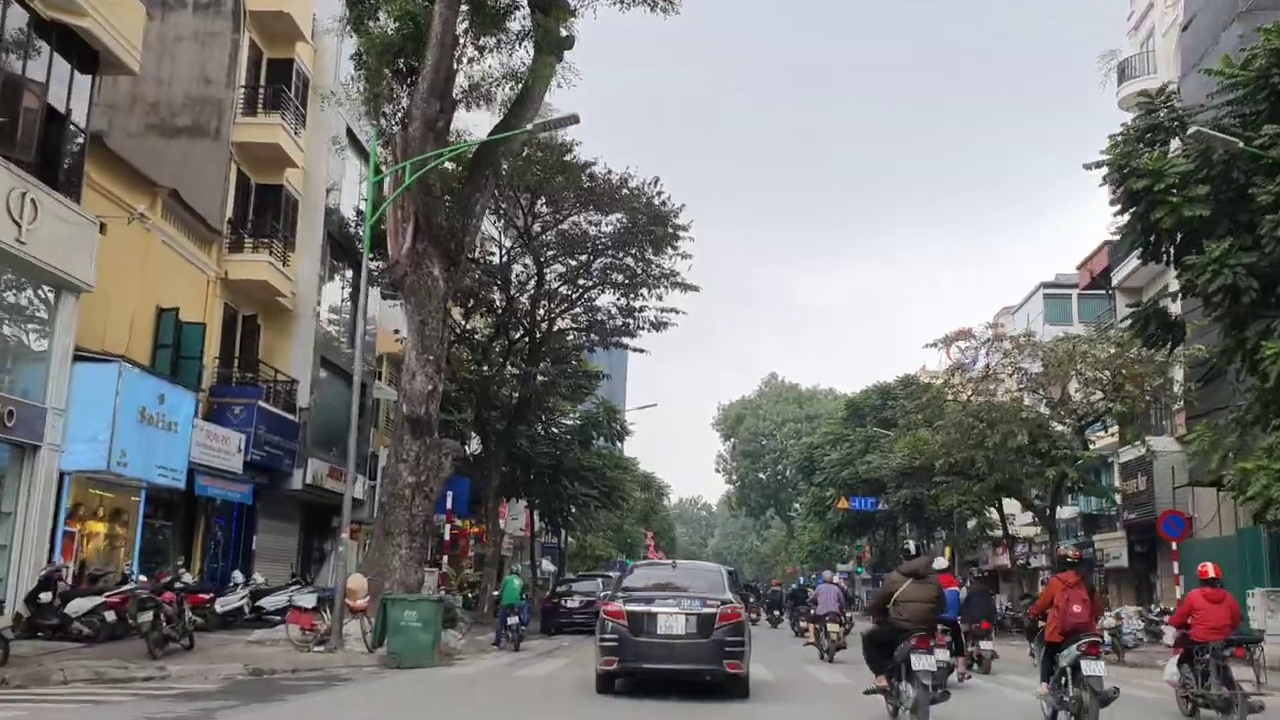person: (1078, 657, 1110, 679), (1228, 665, 1260, 682), (908, 653, 936, 669), (133, 610, 152, 622), (979, 640, 991, 651)
